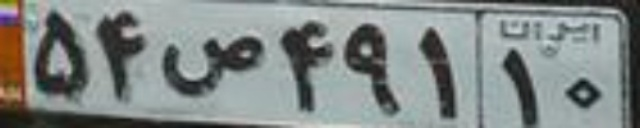0: (560, 78, 606, 109)
1: (414, 25, 465, 118), (497, 46, 542, 126)
4: (279, 20, 333, 112), (93, 11, 143, 103)
5: (26, 8, 88, 97)
9: (342, 21, 401, 117)
saat: (156, 34, 267, 98)
